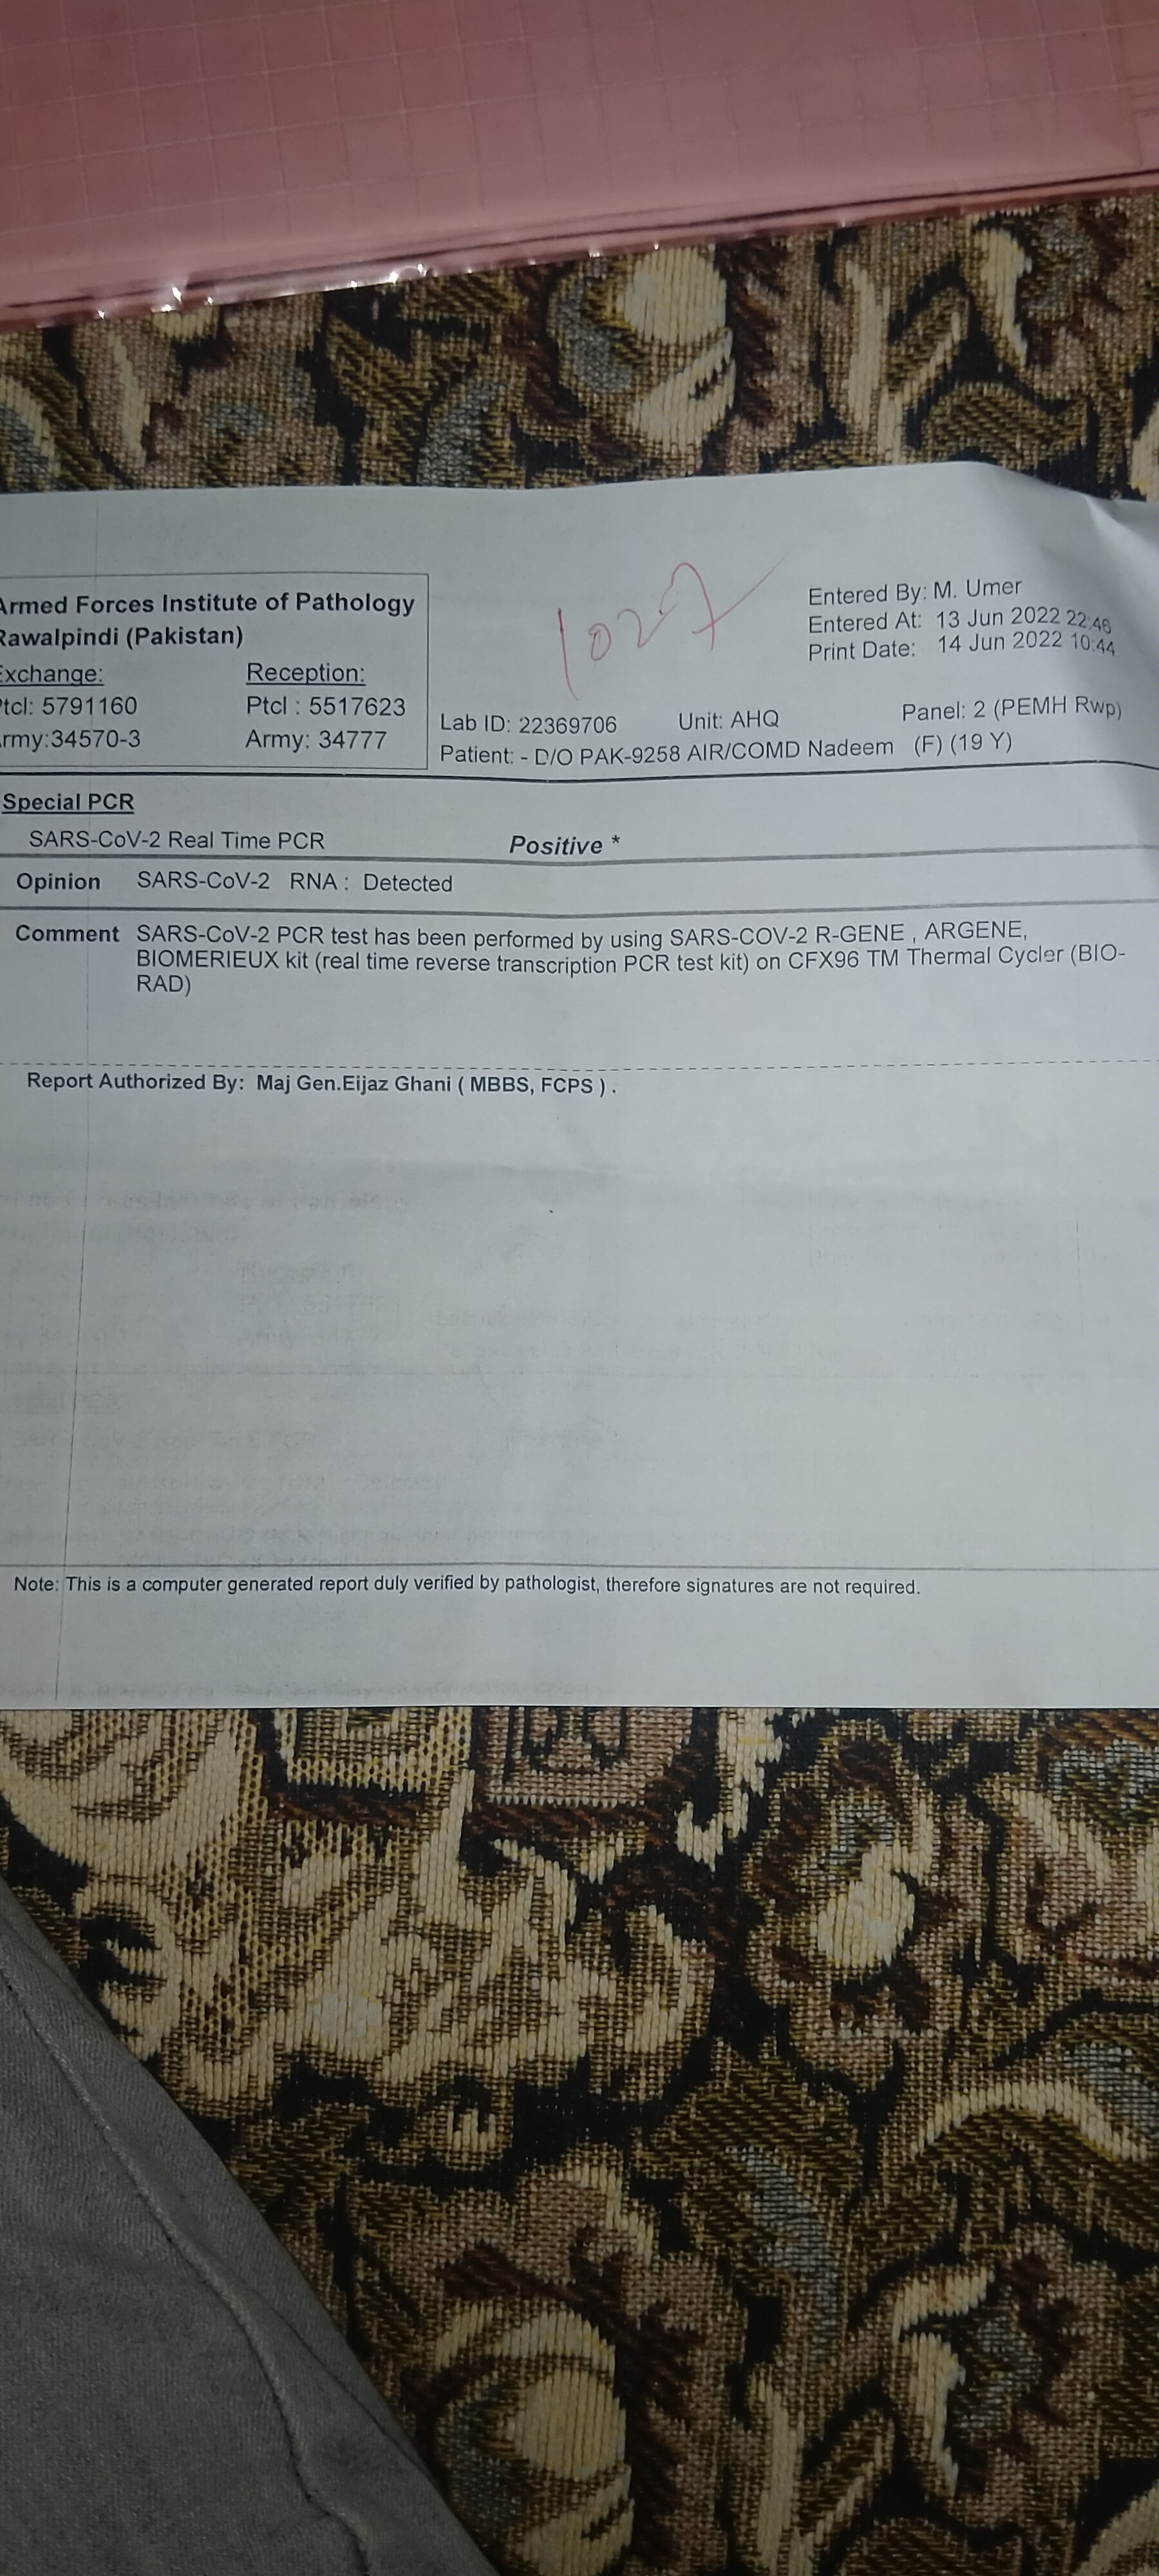report: (2, 775, 1154, 1056)
